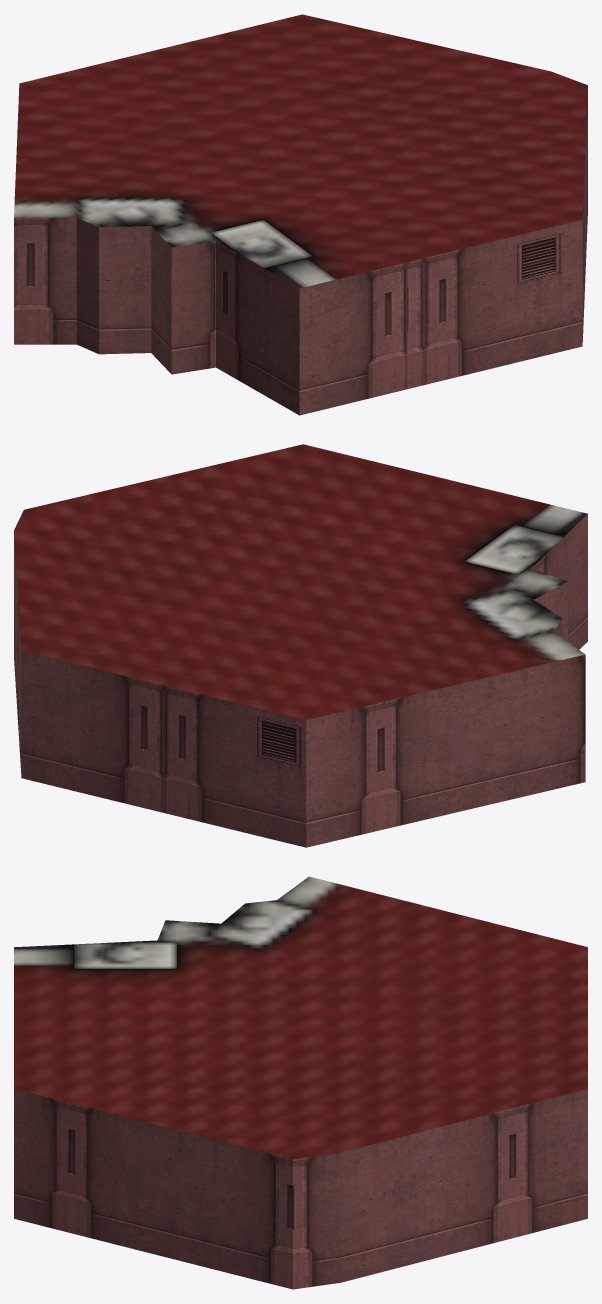
File: hardened_roof47.glb
3 renders of one model, top to bottom at view 1: azimuth 30°, elevation 25°; view 2: azimuth 150°, elevation 25°; view 3: azimuth 270°, elevation 25°, orthographic. The views are drawn at different scales.
Visible parts, largest first — view 1: buildings/saxarba/hard/hardened_roof47; view 2: buildings/saxarba/hard/hardened_roof47; view 3: buildings/saxarba/hard/hardened_roof47.
Boxes of the visible parts, x1,y1,x2,y2 form: buildings/saxarba/hard/hardened_roof47: (14,14,587,415); buildings/saxarba/hard/hardened_roof47: (14,444,587,847); buildings/saxarba/hard/hardened_roof47: (14,876,587,1289).
Bounding box in the file's own units: 84 × 18 × 72.
